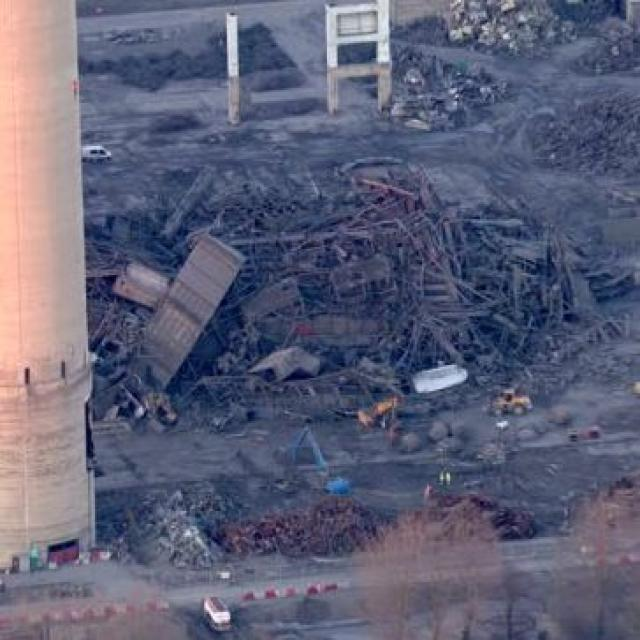collapsed_building: (79, 161, 610, 428)
